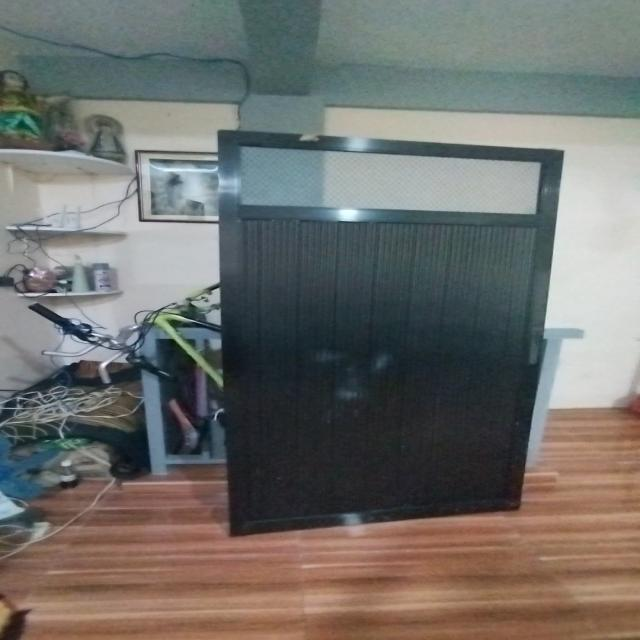door: (208, 125, 563, 538)
